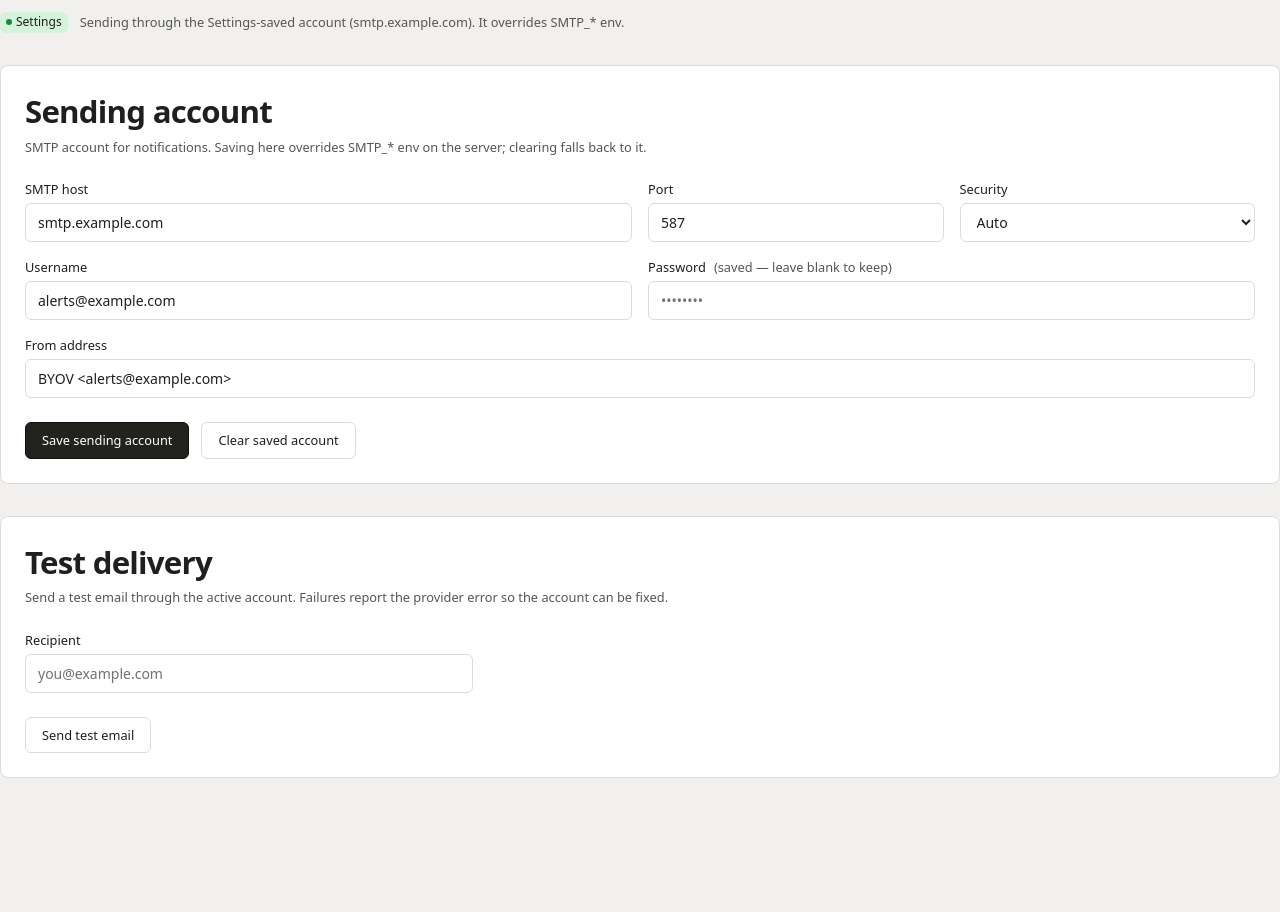
it: MailSettingsForm › clears the saved account after confirm
What coordinates should you click on to do the following:
click the button with test id "mail-reset"
I would click on:
 (279, 441)
Its box is [201,422,356,459].
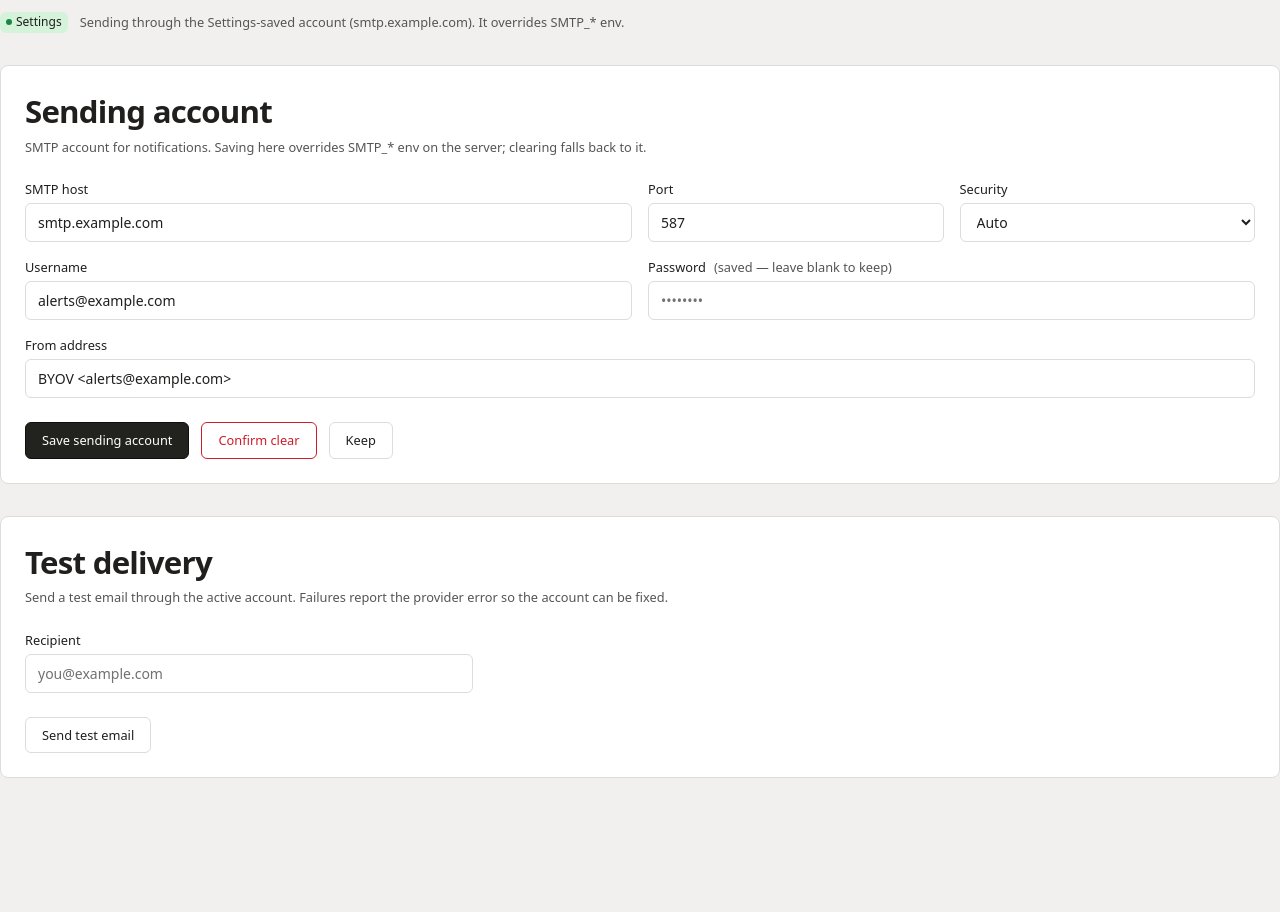
What coordinates should you click on to do the following:
click the button with test id "mail-reset-confirm"
I would click on:
 (259, 441)
Its box is [201,422,317,459].
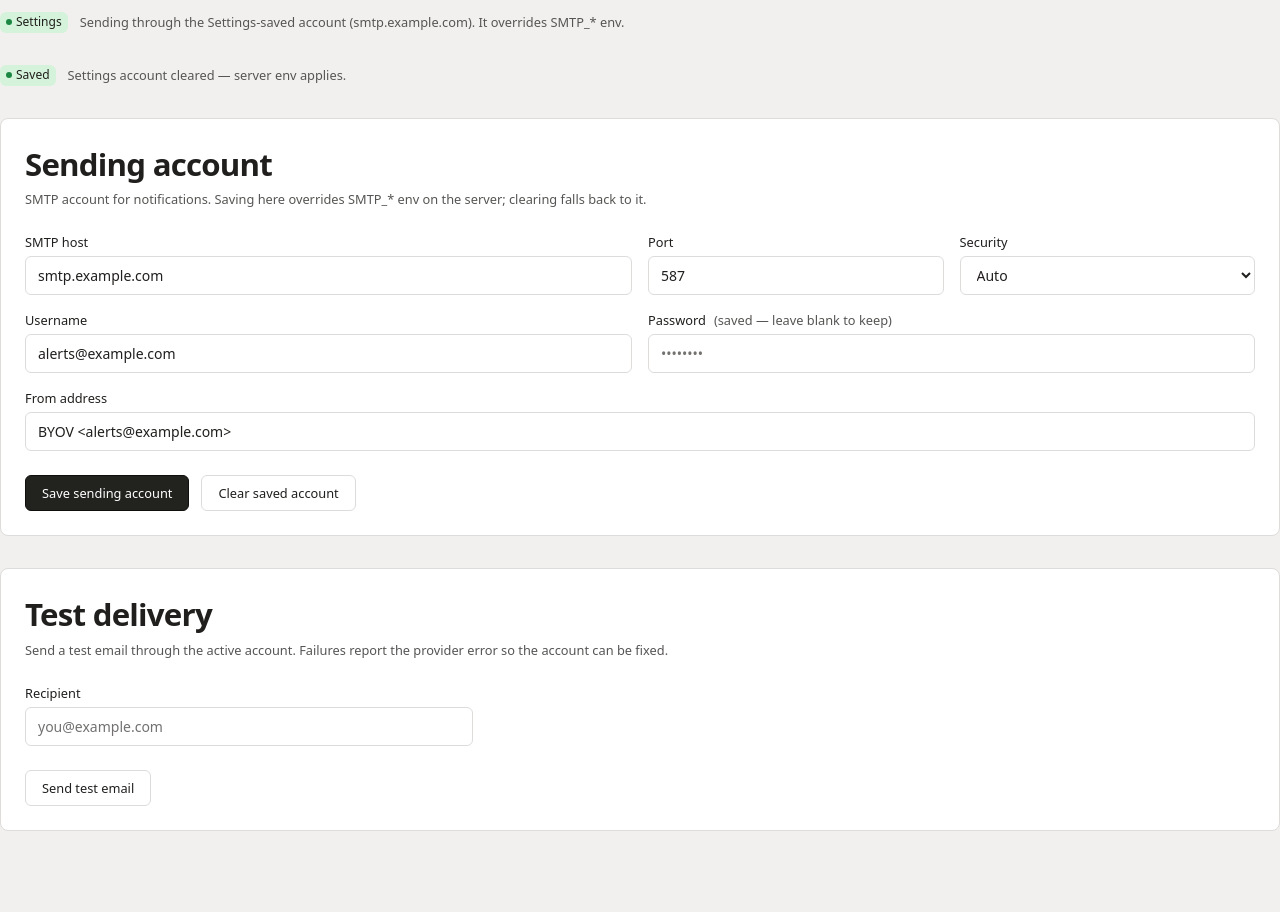
Now the message with test id "mail-banner" shows "server env applies", box [68,66,346,84]
